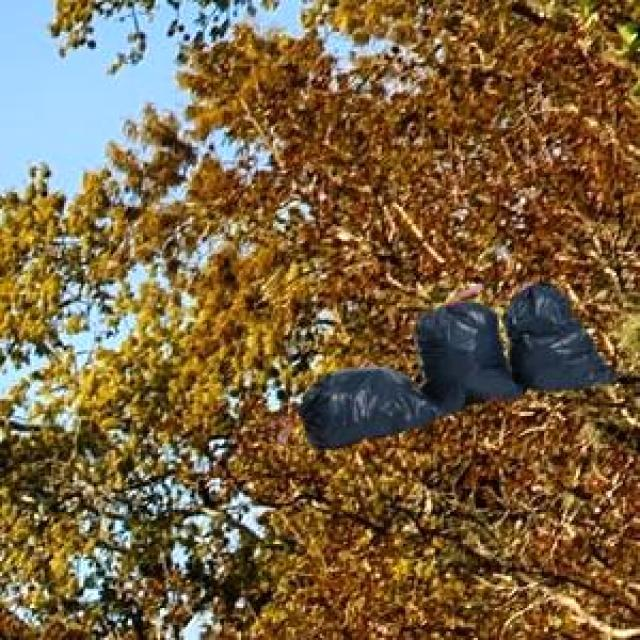Garbage_Bag: (296, 278, 618, 444)
